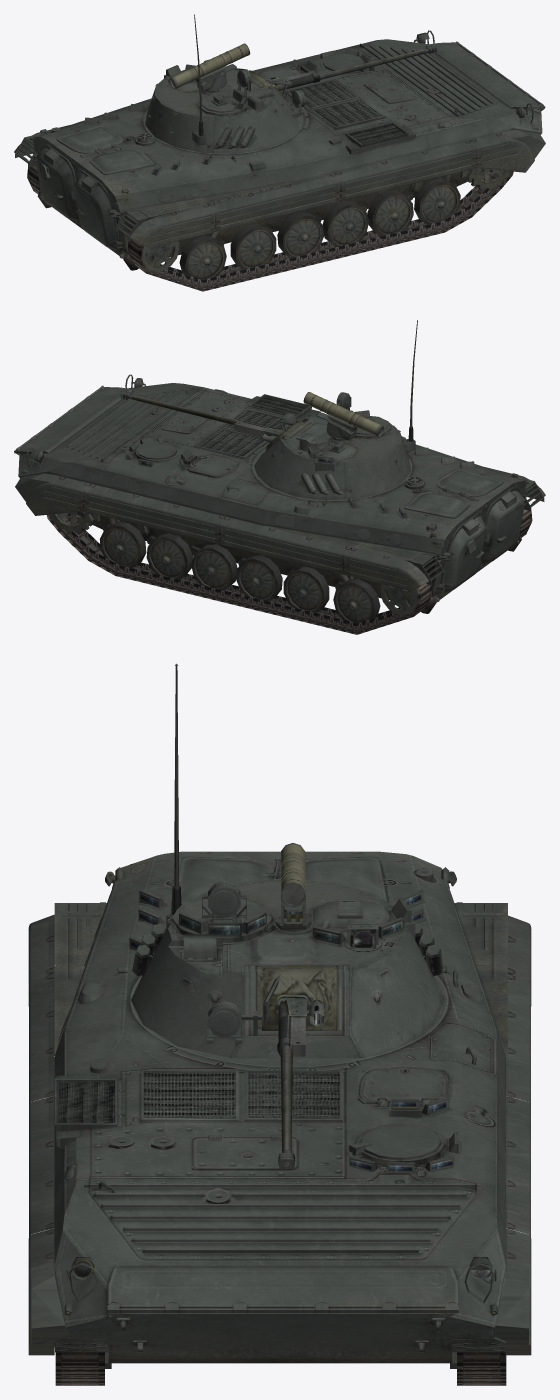
Rendered from bmp-2.glb.
The picture shows the model from 3 angles, top to bottom: view 1: azimuth 30°, elevation 25°; view 2: azimuth 150°, elevation 25°; view 3: azimuth 270°, elevation 25°; orthographic projection. The views are drawn at different scales.
Parts seen in each view (by area): view 1: hull.002, turret.002, track1.001, skirt3.001, skirt5.001, grill_, skirt.001, skirt7.001, hatch8.002, hatch7.002, guards, weapon.002 (+21 smaller); view 2: hull.002, turret.002, track2.001, skirt4, skirt6.001, skirt2.001, skirt8, hatch7.002, hatch8.002, grill_, guards, weapon.002 (+21 smaller); view 3: hull.002, turret.002, grill_, guards, skirt.001, mount.002, skirt2.001, skirt3.001, skirt4, skirt5.001, hatch4.002, weapon.002 (+14 smaller).
Part boxes in pixels (x1,y1,x2,y2): hull.002: [30, 30, 545, 270]; turret.002: [145, 59, 305, 153]; track1.001: [127, 169, 513, 291]; skirt3.001: [335, 140, 476, 200]; skirt5.001: [209, 173, 340, 231]; grill_: [290, 80, 403, 143]; skirt.001: [470, 130, 545, 172]; skirt7.001: [130, 204, 215, 247]; hatch8.002: [74, 169, 121, 253]; hatch7.002: [36, 144, 80, 225]; guards: [15, 131, 293, 241]; weapon.002: [270, 45, 436, 90]; hull.002: [14, 374, 528, 613]; turret.002: [254, 392, 415, 500]; track2.001: [47, 513, 431, 634]; skirt4: [84, 483, 225, 544]; skirt6.001: [219, 516, 350, 574]; skirt2.001: [15, 473, 89, 515]; skirt8: [345, 547, 428, 591]; hatch7.002: [439, 512, 486, 596]; hatch8.002: [479, 487, 524, 568]; grill_: [197, 397, 306, 456]; guards: [266, 474, 544, 584]; weapon.002: [120, 391, 284, 436]; hull.002: [54, 851, 506, 1363]; turret.002: [131, 878, 445, 1058]; grill_: [58, 1073, 339, 1122]; guards: [54, 902, 507, 1056]; skirt.001: [28, 1228, 64, 1355]; mount.002: [262, 967, 338, 1030]; skirt2.001: [495, 1228, 531, 1355]; skirt3.001: [29, 1096, 54, 1236]; skirt4: [506, 1096, 530, 1236]; skirt5.001: [29, 973, 54, 1104]; hatch4.002: [357, 1066, 449, 1103]; weapon.002: [277, 997, 306, 1168].
Size of the model in its own units: 6.75 by 3.69 by 3.37.
Materials: 16 (16 with a texture image).
